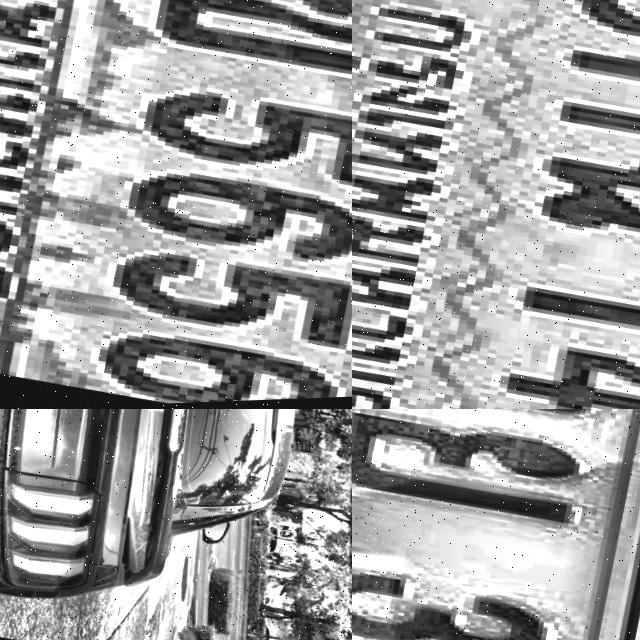license-plate: (0, 0, 352, 409), (352, 0, 640, 409), (352, 409, 640, 640)
